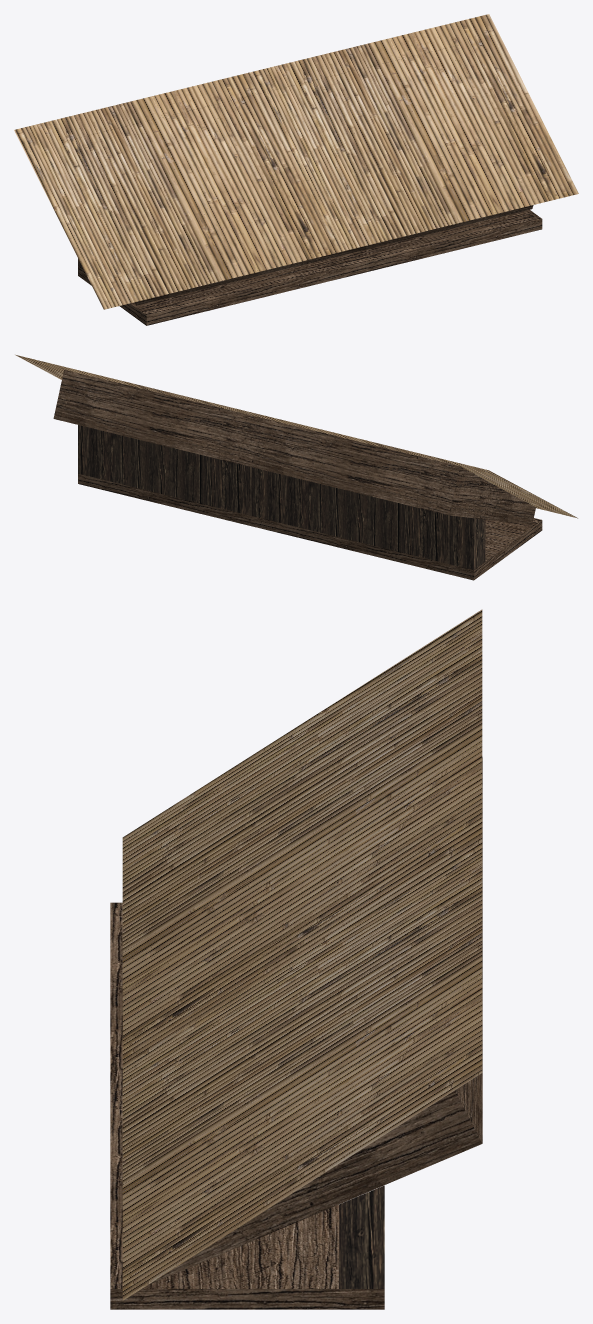
The model's file is build3_d1.FBX.
The picture shows the model from 3 angles, top to bottom: view 1: azimuth 30°, elevation 25°; view 2: azimuth 150°, elevation 25°; view 3: azimuth 270°, elevation 25°; orthographic projection. The views are drawn at different scales.
Parts seen in each view (by area): view 1: build3_d1; view 2: build3_d1; view 3: build3_d1.
Boxes of the visible parts, x1=… form: build3_d1: x1=14, y1=14, x2=578, y2=325; build3_d1: x1=15, y1=354, x2=577, y2=580; build3_d1: x1=110, y1=609, x2=482, y2=1309.
Bounding box in the file's own units: 240 × 66.44 × 81.37.
